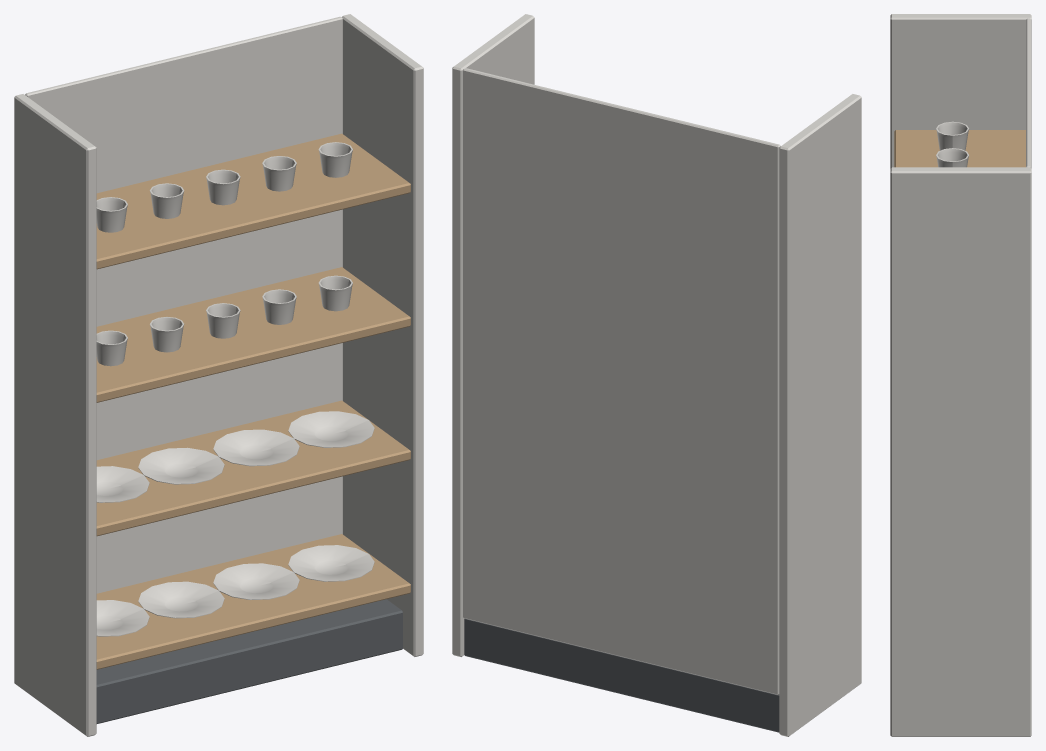
File: bakery-and-cafe-crockery-shelf-unit-02572cc1__22143.glb
3 renders of one model, left to right at view 1: azimuth 30°, elevation 25°; view 2: azimuth 150°, elevation 25°; view 3: azimuth 270°, elevation 25°, orthographic. The views are drawn at different scales.
Parts seen in each view (by area): view 1: crockery-shelf-unit; view 2: crockery-shelf-unit; view 3: crockery-shelf-unit.
Part boxes in pixels (bbox=[...]): crockery-shelf-unit: bbox=[14, 14, 423, 736]; crockery-shelf-unit: bbox=[452, 14, 861, 736]; crockery-shelf-unit: bbox=[890, 14, 1031, 736].
Size of the model in its own units: 0.9001 by 1.5 by 0.34.
